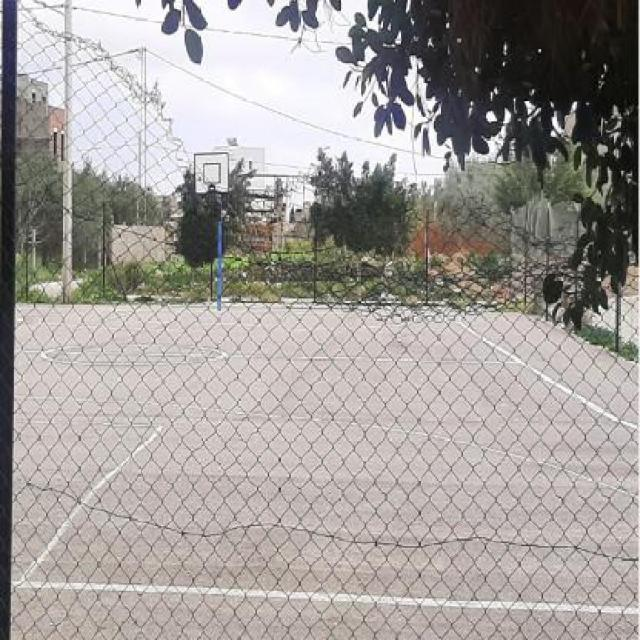fence line: (65, 7, 613, 230)
